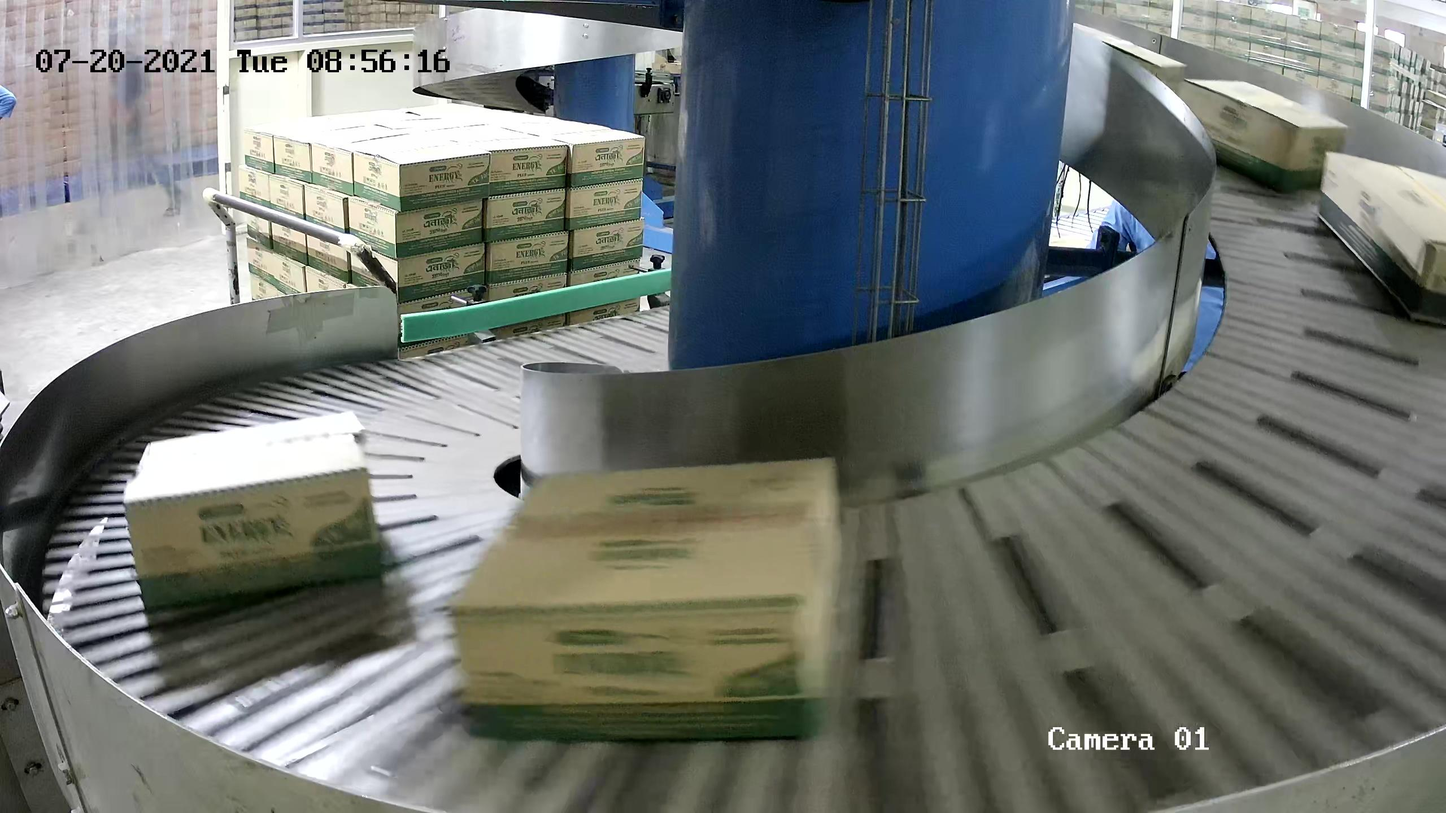Box: (444, 454, 845, 741), (121, 406, 384, 621), (1315, 151, 1446, 329), (1174, 77, 1348, 197), (1053, 20, 1189, 120)
